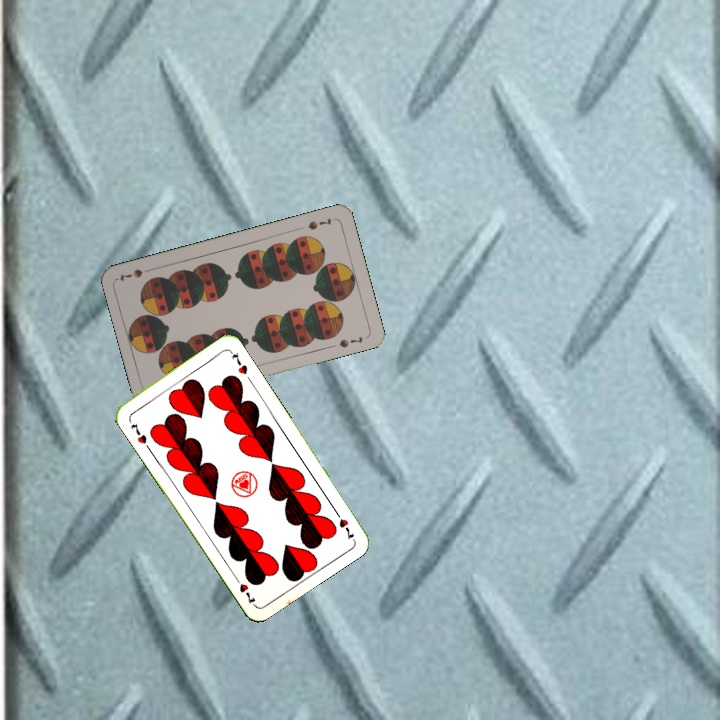H7: (330, 506, 357, 542), (127, 419, 149, 447)
S7: (304, 214, 334, 232)
